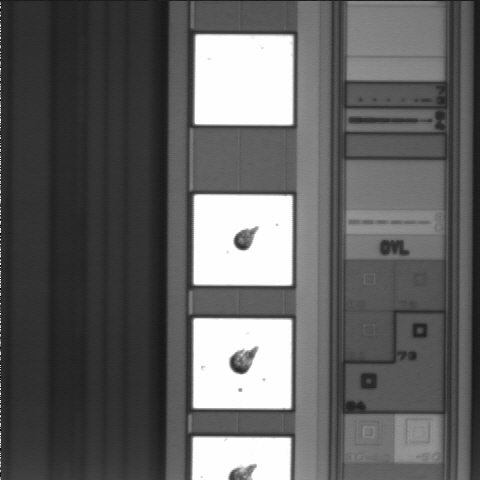pad: (193, 318, 292, 409), (195, 35, 293, 125), (194, 195, 292, 285)
